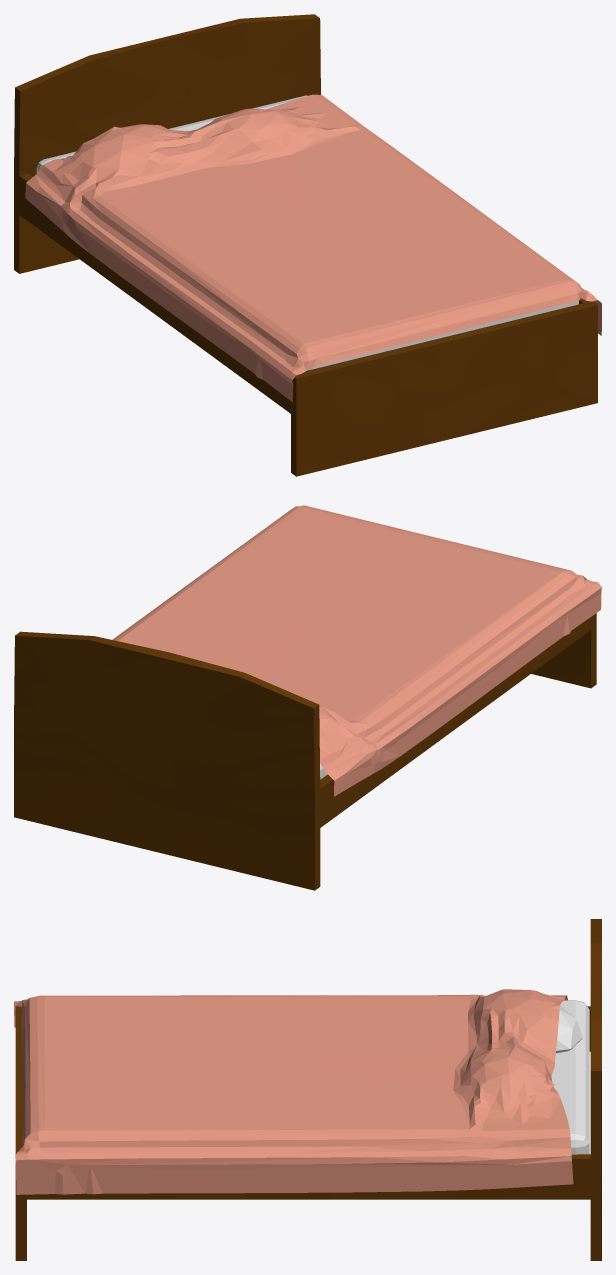
Rendered from Bed.fbx.
3 views of the same model, one above another, from view 1: azimuth 30°, elevation 25°; view 2: azimuth 150°, elevation 25°; view 3: azimuth 270°, elevation 25° (orthographic). The views are drawn at different scales.
Parts seen in each view (by area): view 1: Plane.013, Cube.028, Cube.027; view 2: Plane.013, Cube.028; view 3: Plane.013, Cube.028, Cube.027, Icosphere.004.
Part boxes in pixels (x1,y1,x2,y2): Plane.013: [25, 94, 601, 402]; Cube.028: [14, 14, 597, 476]; Cube.027: [36, 95, 578, 370]; Plane.013: [112, 505, 601, 796]; Cube.028: [14, 613, 596, 890]; Plane.013: [14, 989, 573, 1194]; Cube.028: [15, 919, 601, 1260]; Cube.027: [551, 1000, 589, 1154]; Icosphere.004: [556, 1005, 582, 1053].
Bounding box in the file's own units: 167 × 101 × 262.
